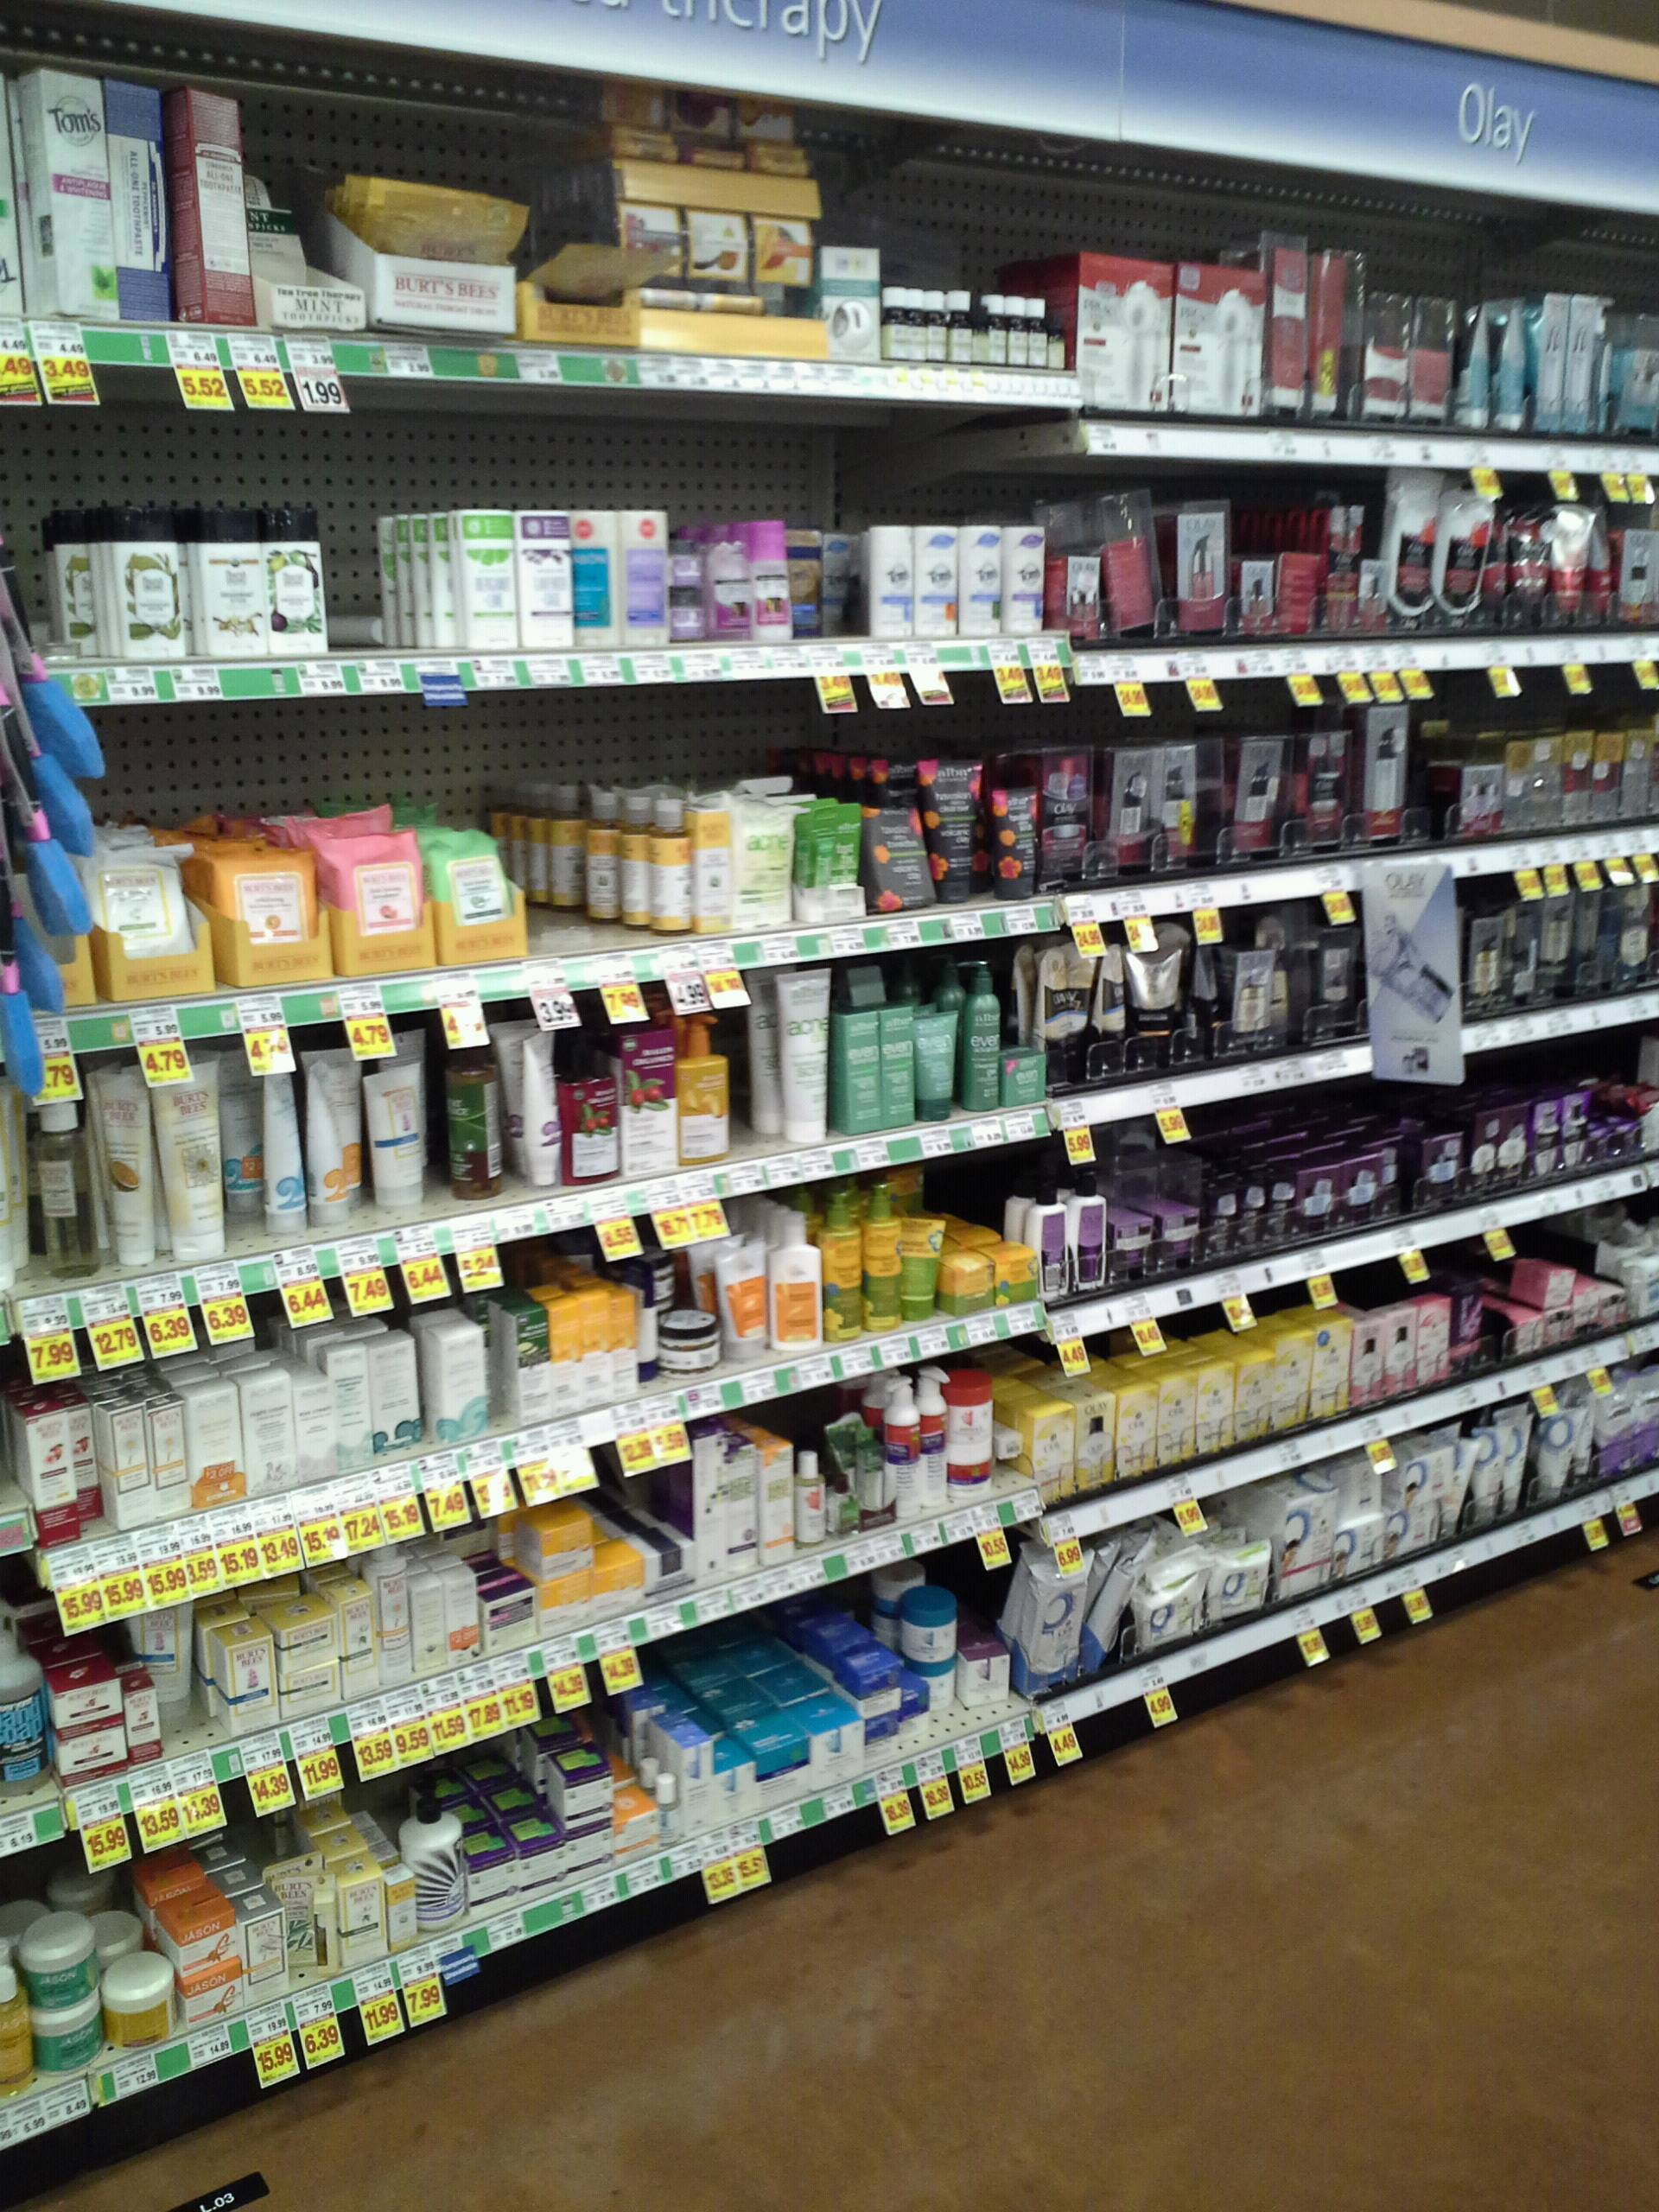Out-of-stock: (530, 775, 692, 970), (328, 517, 455, 664), (730, 979, 788, 1165)
